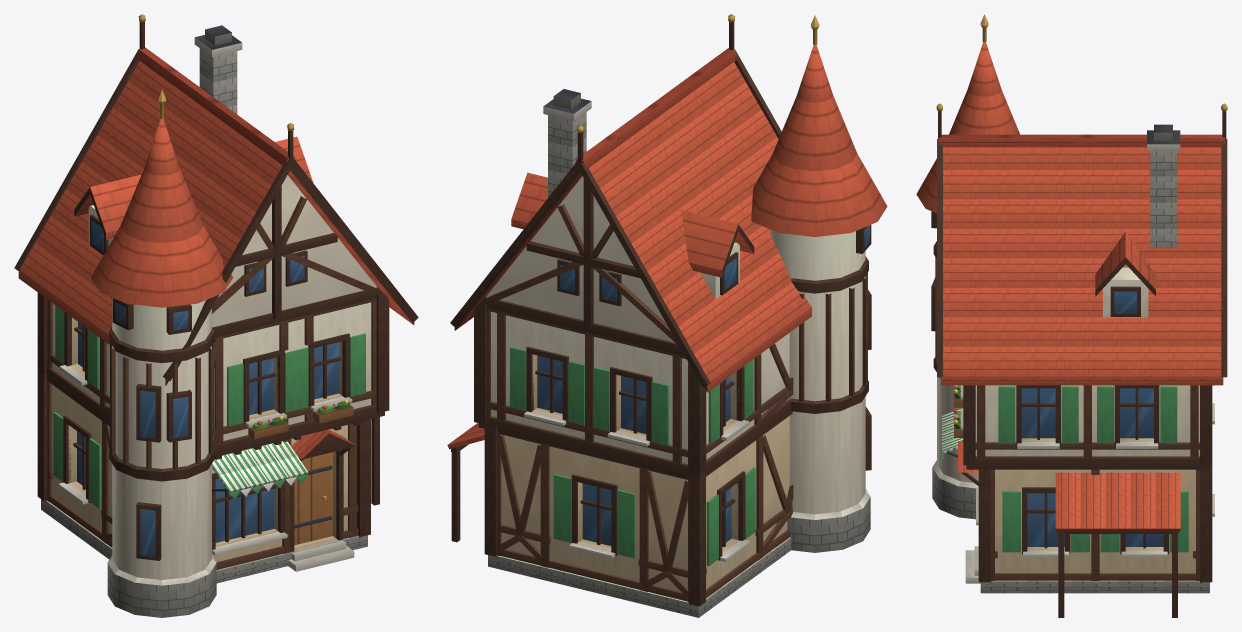
File: bld_house_c.glb
3 renders of one model, left to right at view 1: azimuth 30°, elevation 25°; view 2: azimuth 150°, elevation 25°; view 3: azimuth 270°, elevation 25°, orthographic. The views are drawn at different scales.
Parts seen in each view (by area): view 1: bld_house_c; view 2: bld_house_c; view 3: bld_house_c.
Part boxes in pixels (left/top/right/bottom): bld_house_c: left=14, top=14, right=418, bottom=617; bld_house_c: left=447, top=14, right=887, bottom=617; bld_house_c: left=916, top=14, right=1227, bottom=617.
Bounding box in the file's own units: 9.35 × 14.1 × 8.21.
1 material, 1 textured.
